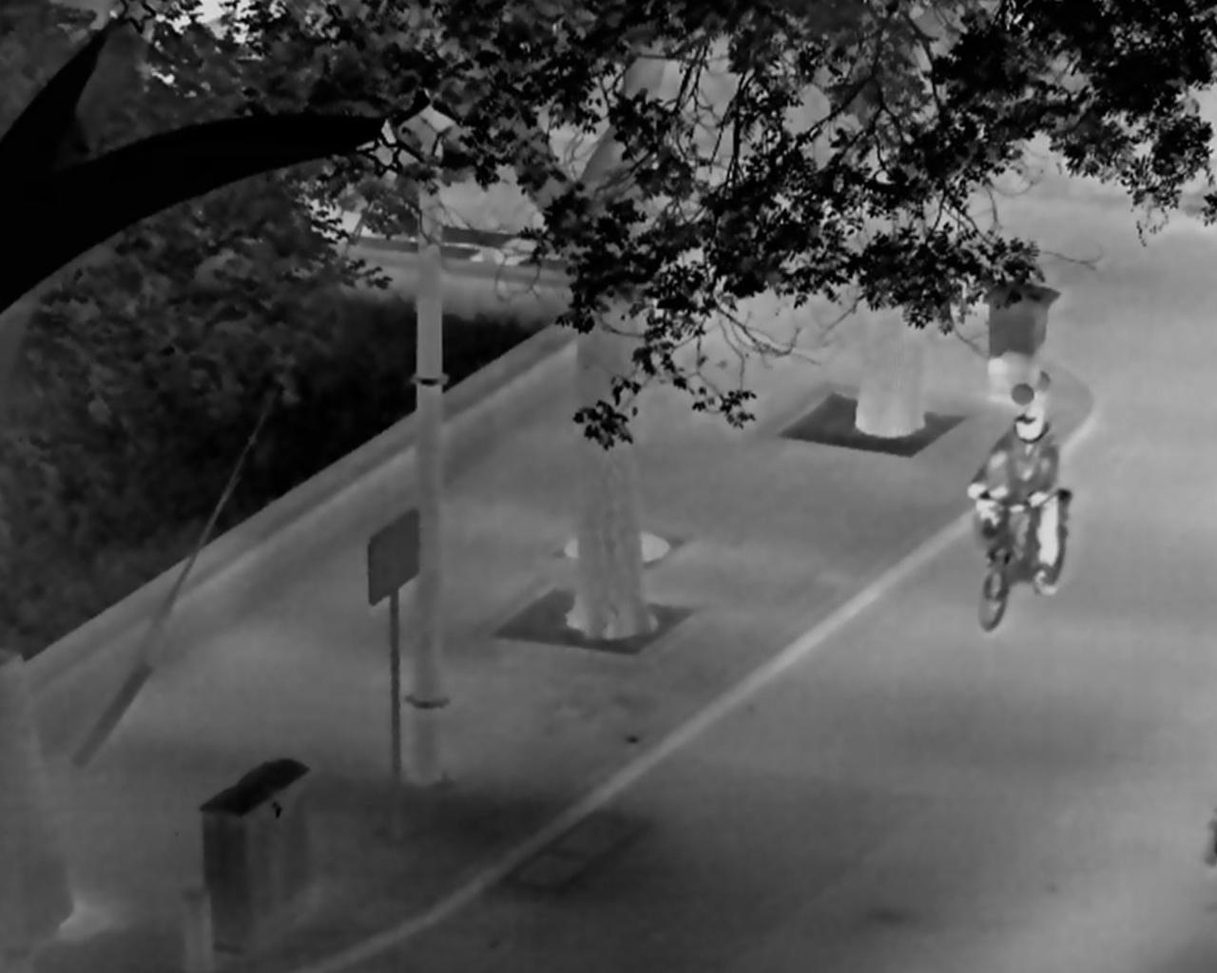person: (968, 401, 1060, 583)
